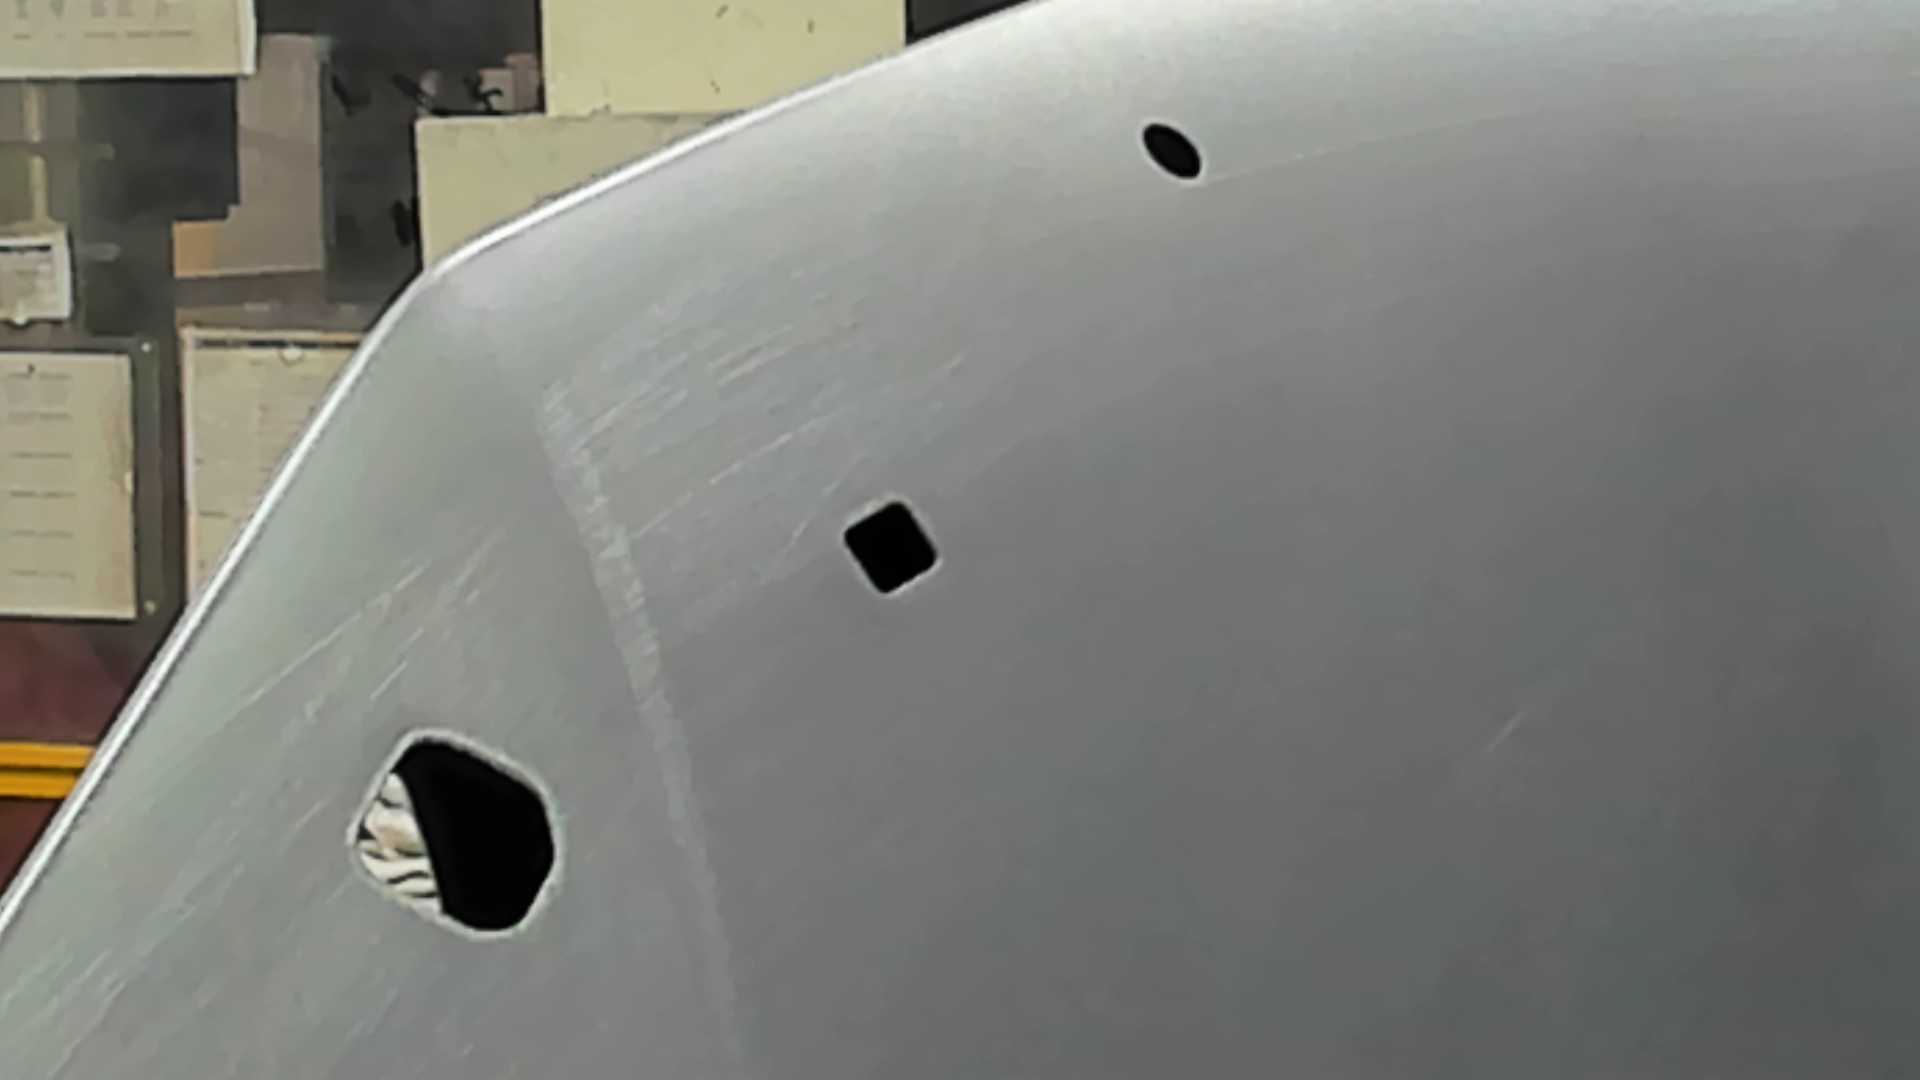chico: (1134, 115, 1207, 186)
grande: (347, 723, 564, 949)
mediano: (836, 495, 945, 603)
